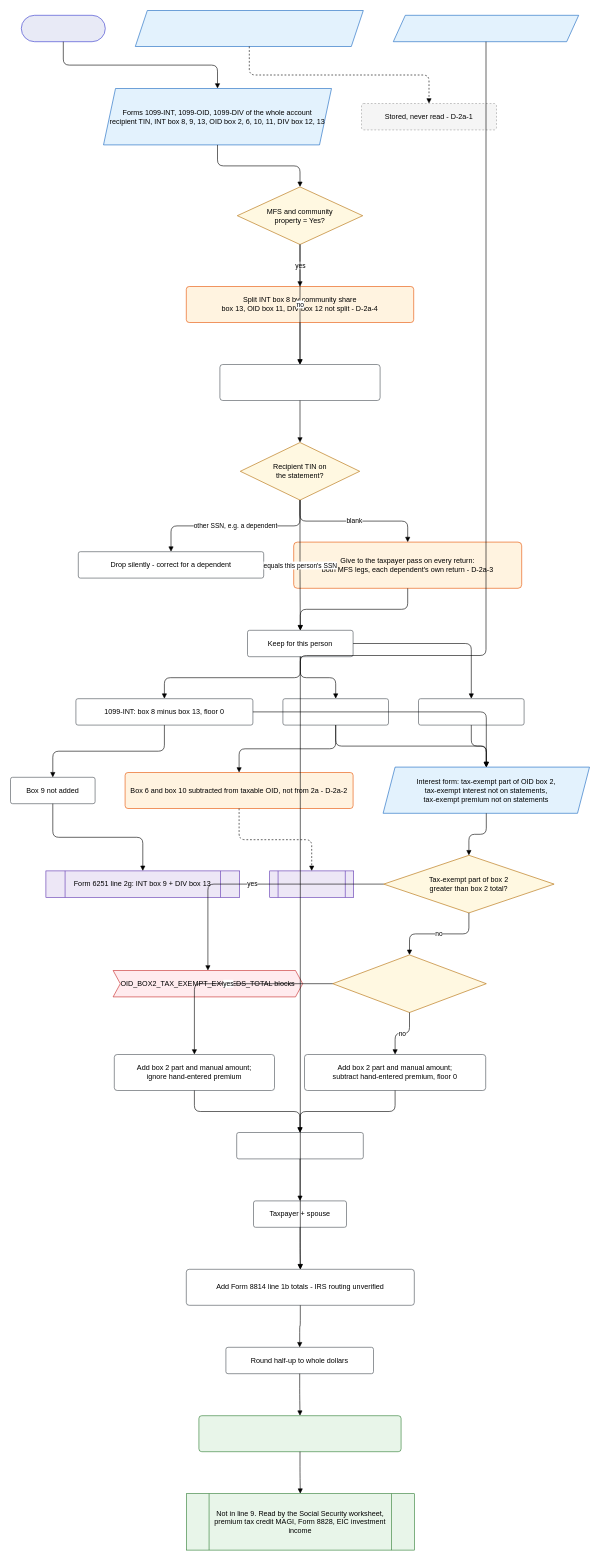
Image size: 600x1561. Some labels were removed from this diagram. The shapes that lost their labels are listed below. From the top down, each one's box as (x1, y1, x2, y2) in pixels, then its label:
(21, 15, 105, 42): Compute return
(135, 10, 363, 46): Schedule K-1 1065 box 18 code A, 1120-S box 16 code A
(393, 15, 579, 42): Form 8814 line 1b of each elected child
(219, 364, 380, 400): Run taxpayer pass and spouse pass spouse form and SSN nulled on MFS
(282, 698, 388, 725): 1099-OID: add box 11
(418, 698, 524, 725): 1099-DIV: add box 12
(269, 870, 354, 897): Line 2b
(332, 954, 486, 1012): Broker already netted premium? taxpayer form
(236, 1132, 363, 1159): Round each person's total
(198, 1415, 401, 1452): form1040.income.taxExemptInterest out_form_1040.income_tax_exempt_interest_2a
